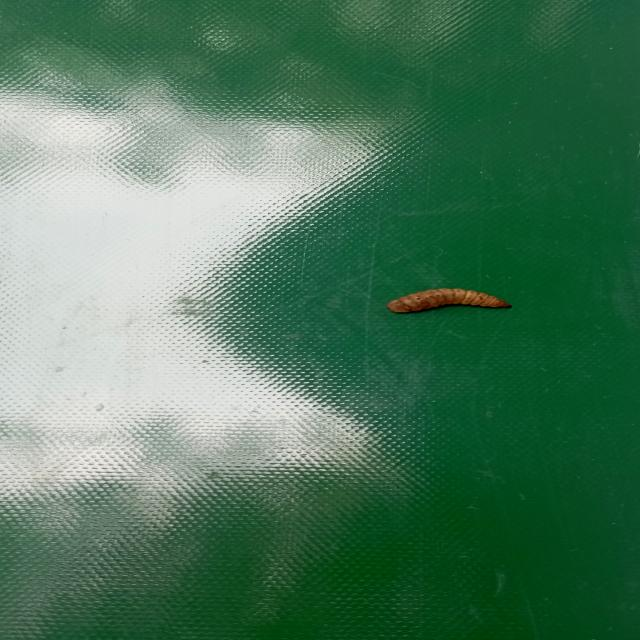Maggot: (386, 287, 512, 317)
